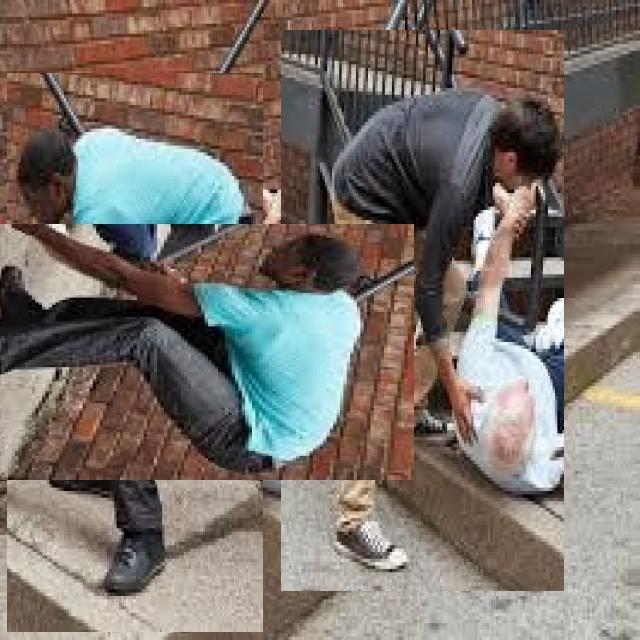Fall: (456, 193, 599, 550)
NotFall: (3, 229, 383, 473), (320, 44, 555, 322)
